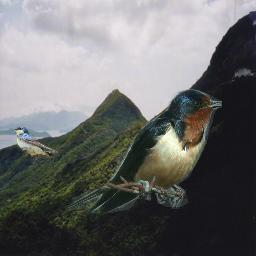Swallow: (65, 89, 222, 213), (14, 127, 58, 160)
